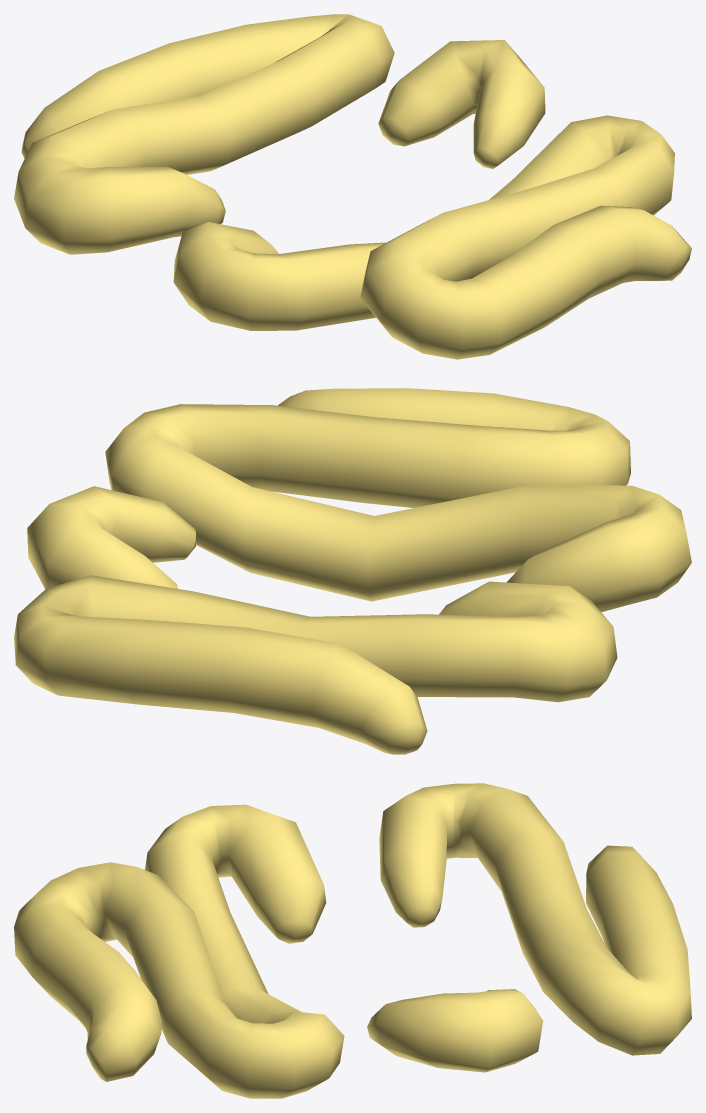
The model's file is candy_assets54.fbx.
3 renders of one model, top to bottom at view 1: azimuth 30°, elevation 25°; view 2: azimuth 150°, elevation 25°; view 3: azimuth 270°, elevation 25°, orthographic. The views are drawn at different scales.
Visible parts, largest first — view 1: candy_assets54; view 2: candy_assets54; view 3: candy_assets54.
Boxes of the visible parts, x1=… form: candy_assets54: x1=14, y1=14, x2=691, y2=359; candy_assets54: x1=14, y1=388, x2=691, y2=754; candy_assets54: x1=14, y1=783, x2=691, y2=1098.
Bounding box in the file's own units: 459 × 114 × 503.
Materials: 1 (1 with a texture image).
